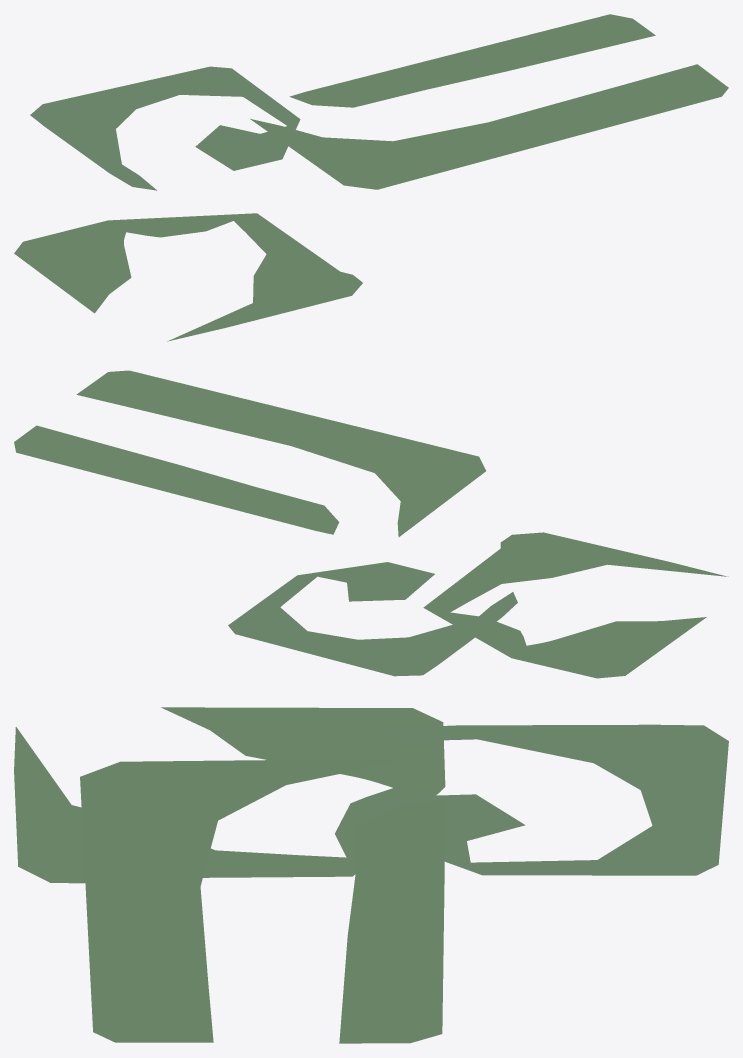
File: grass_block1.gltf
The picture shows the model from 3 angles, top to bottom: view 1: azimuth 30°, elevation 25°; view 2: azimuth 150°, elevation 25°; view 3: azimuth 270°, elevation 25°; orthographic projection. The views are drawn at different scales.
Visible parts, largest first — view 1: Shape (×2), Shape 22, Shape 21; view 2: Shape (×2), Shape 22, Shape 21; view 3: Shape (×2), Shape 22, Shape 21.
Part boxes in pixels (left/top/right/bottom): Shape (×2): left=14, top=66, right=362, bottom=341; Shape 22: left=250, top=64, right=728, bottom=189; Shape 21: left=289, top=14, right=655, bottom=107; Shape (×2): left=228, top=532, right=728, bottom=678; Shape 22: left=76, top=370, right=485, bottom=536; Shape 21: left=14, top=425, right=339, bottom=534; Shape (×2): left=14, top=707, right=728, bottom=883; Shape 22: left=80, top=758, right=401, bottom=1042; Shape 21: left=339, top=799, right=445, bottom=1043.
Bounding box in the file's own units: 10.2 × 1.35 × 6.59.
